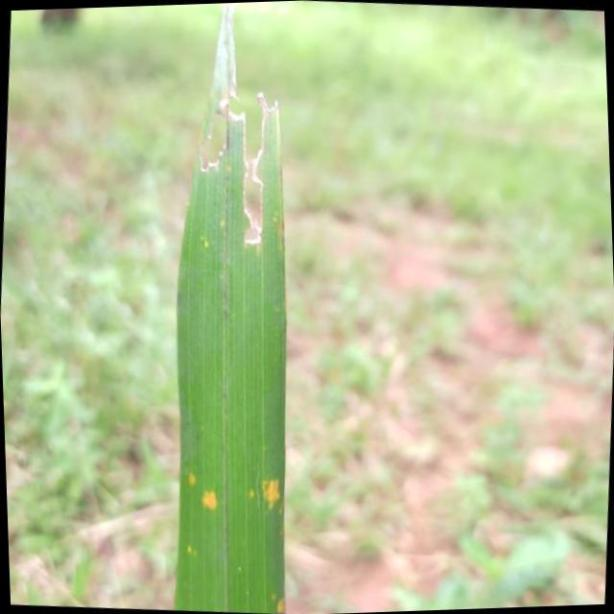Kalium: (175, 7, 287, 614)
